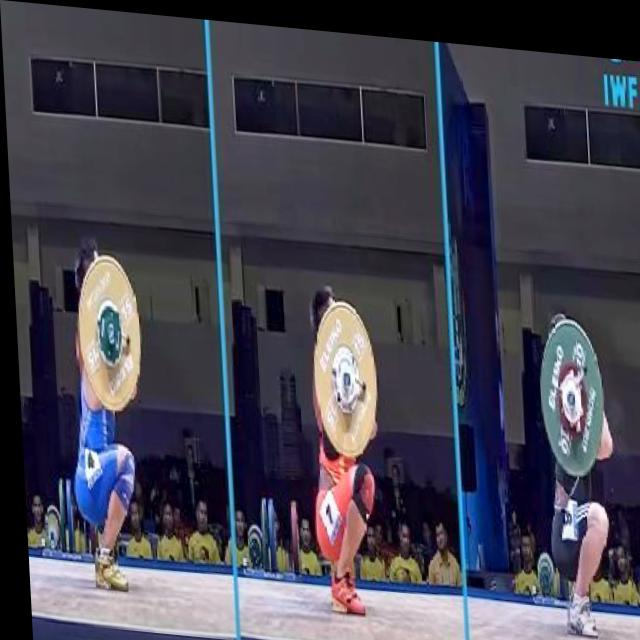barbell: (68, 248, 151, 417), (301, 288, 380, 461), (530, 302, 601, 470)
